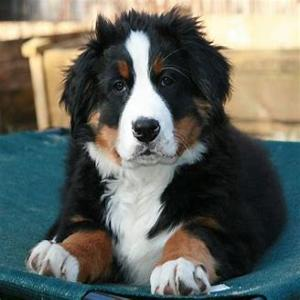dog: (55, 21, 280, 290)
